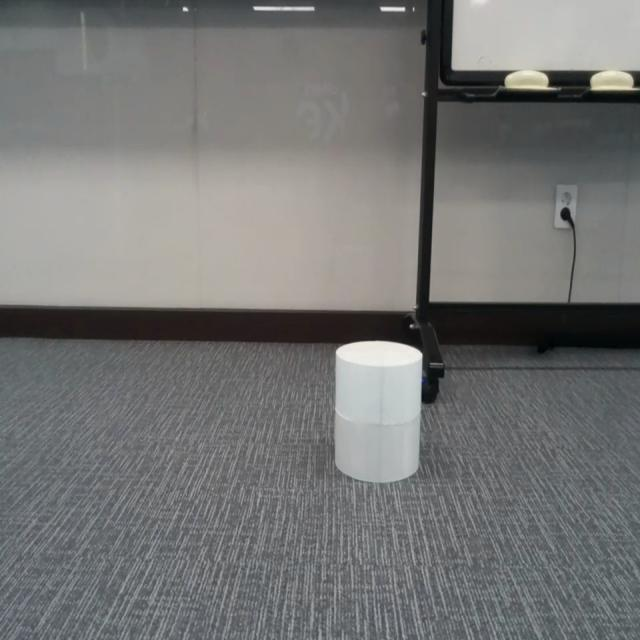cylinder: (334, 340, 423, 484)
